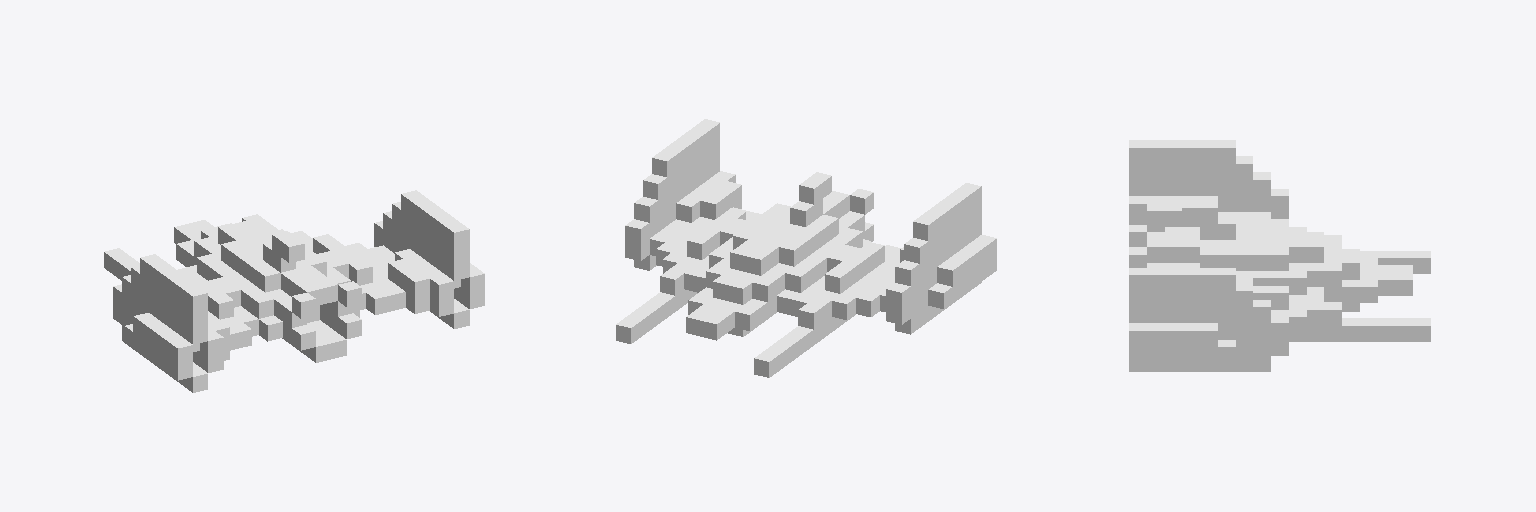
Rendered from player.obj.
3 views of the same model, side by side, from view 1: azimuth 30°, elevation 25°; view 2: azimuth 150°, elevation 25°; view 3: azimuth 270°, elevation 25° (orthographic).
Visible parts, largest first — view 1: object 1; view 2: object 1; view 3: object 1.
Part boxes in pixels (x1,y1,x2,y2): object 1: (104, 190, 484, 392); object 1: (616, 119, 996, 377); object 1: (1129, 140, 1430, 371).
Size of the model in its own units: 2 by 0.6 by 1.7.